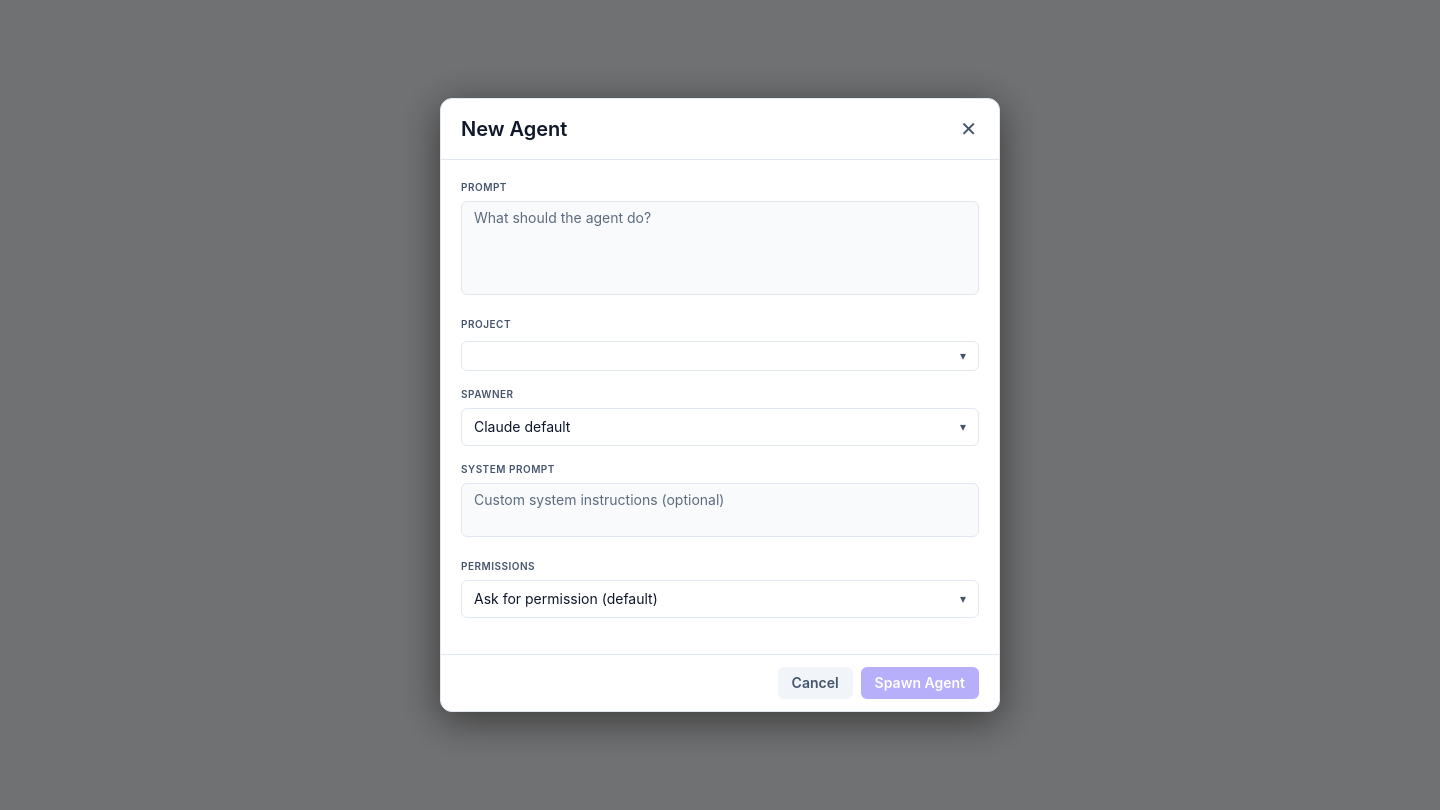
Test: spawnDialog › spawn button is disabled until a project with a folder is selected
This screenshot has width=1440, height=810.
Type "do a thing" into the text box with test id "spawn-prompt-wrap" at (720, 248), box [461,201,979,295]
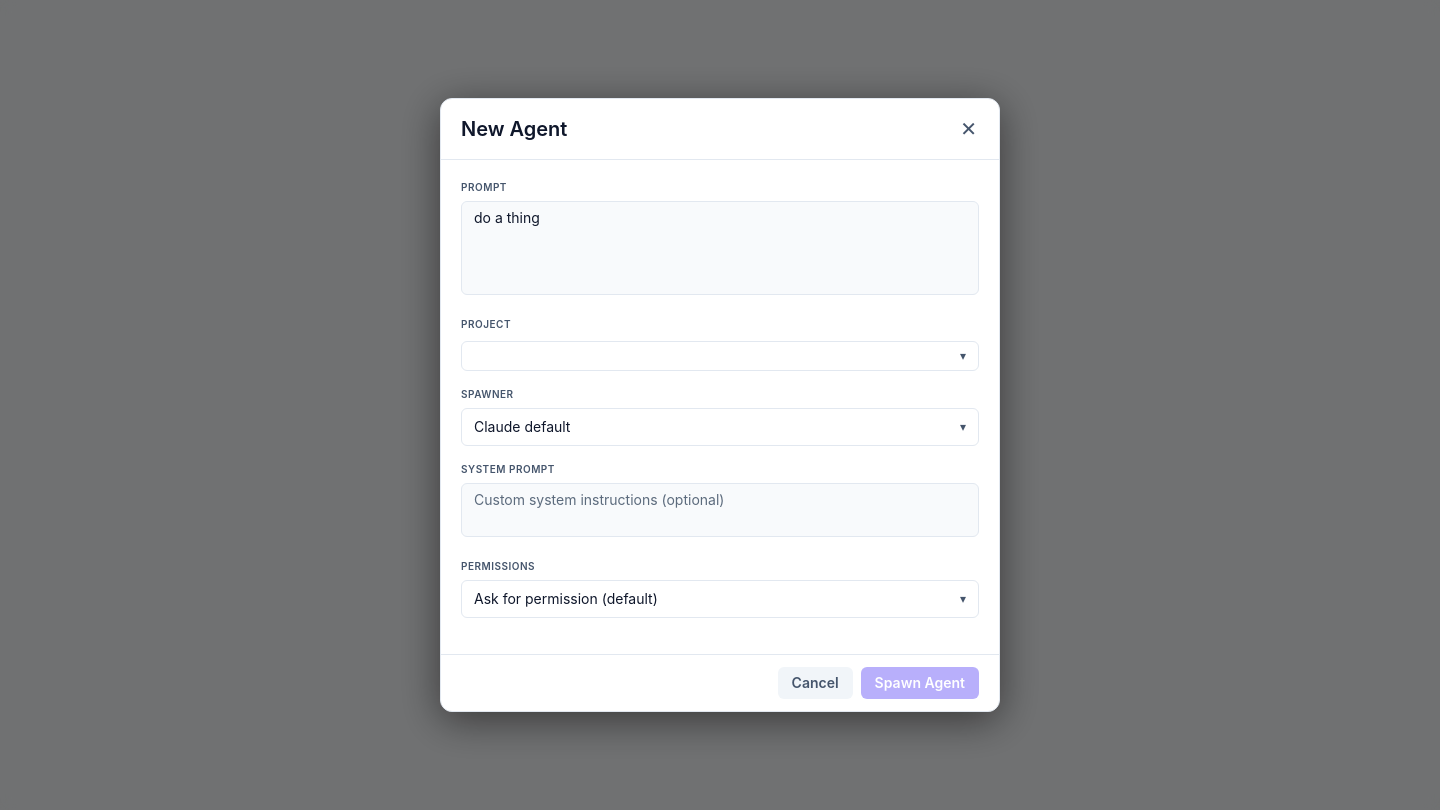
Expected: the button with test id "spawn-btn" is disabled, [861,667,979,699]
Click the dropdown with id "spawn-project" at (963, 356), box [461,341,979,371]
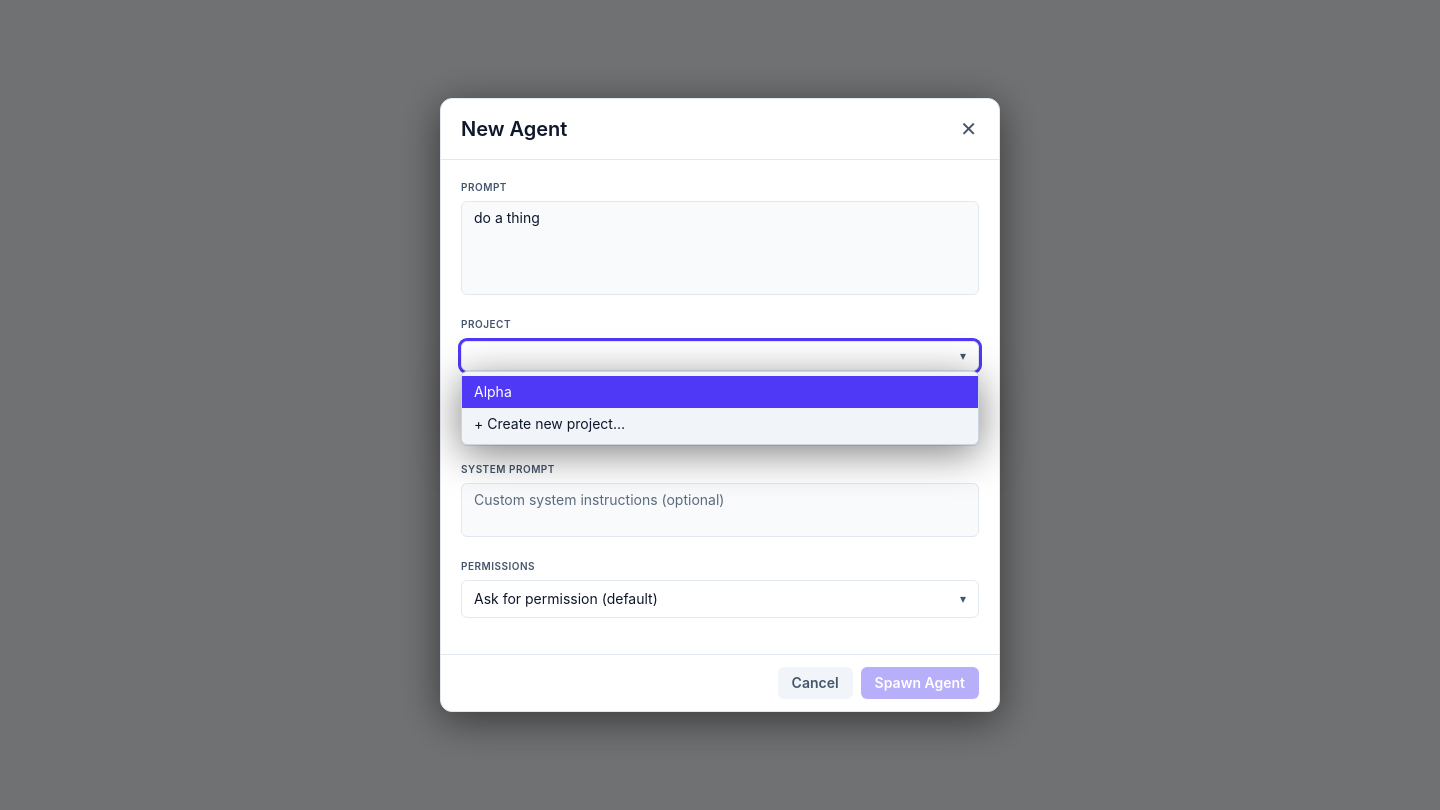
Click the option "Alpha" at (493, 392), box [462,376,978,408]
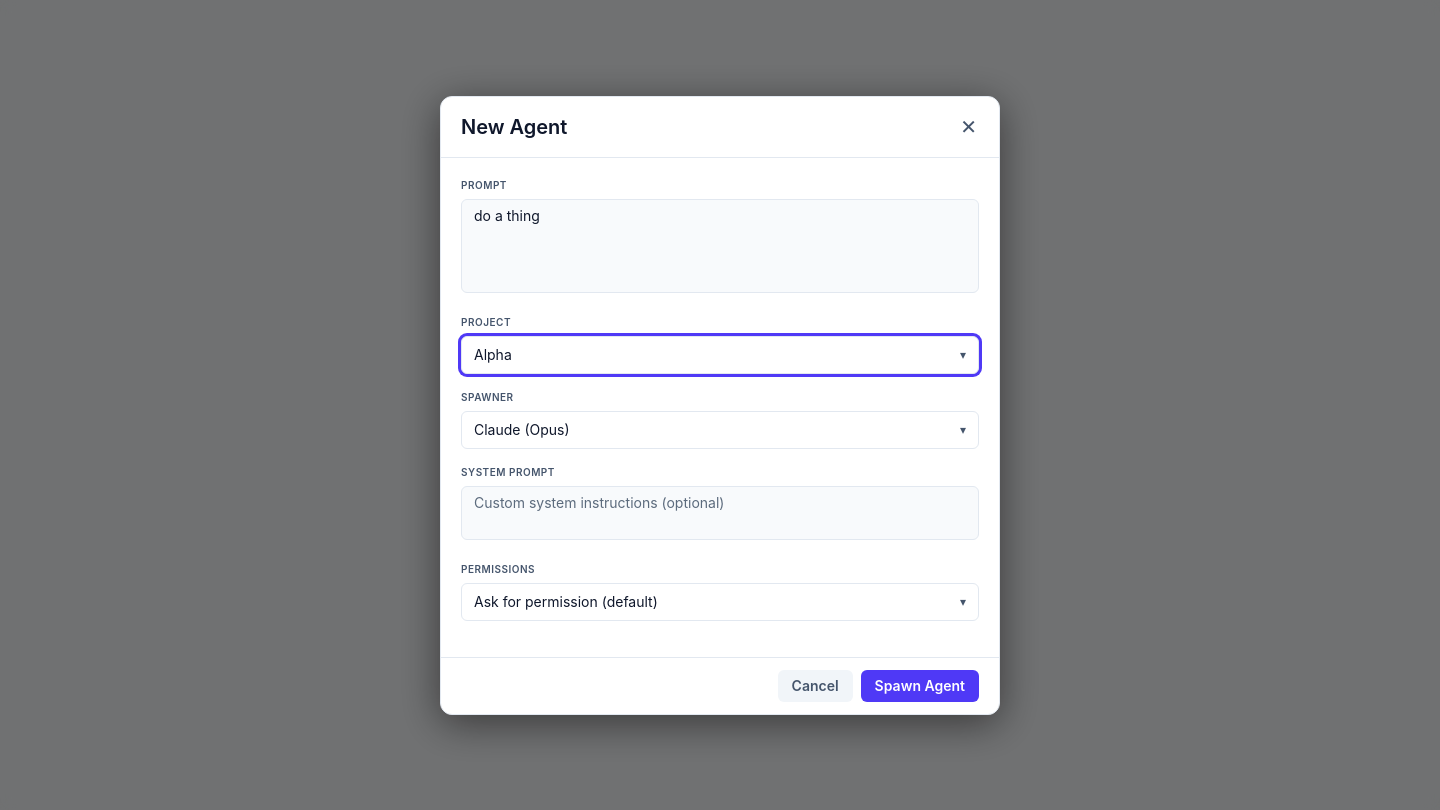
Expected: the button with test id "spawn-btn" is enabled, [861,670,979,702]
